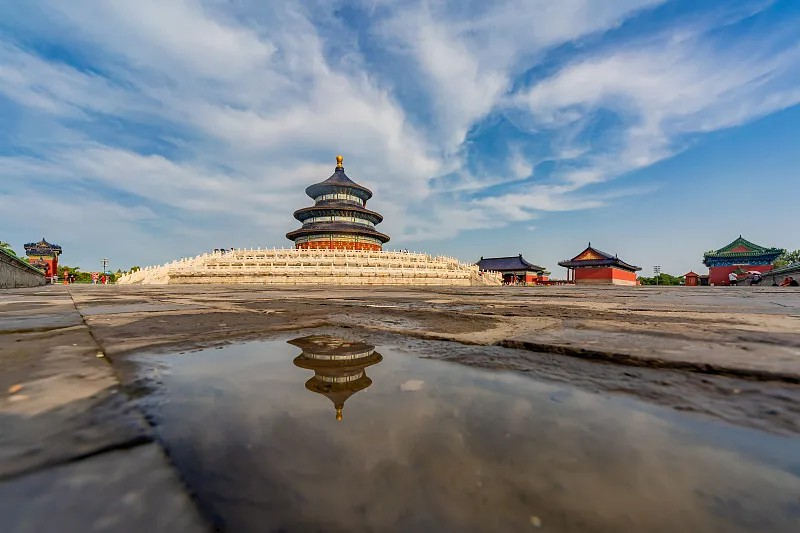Heaven: (285, 155, 392, 252)
